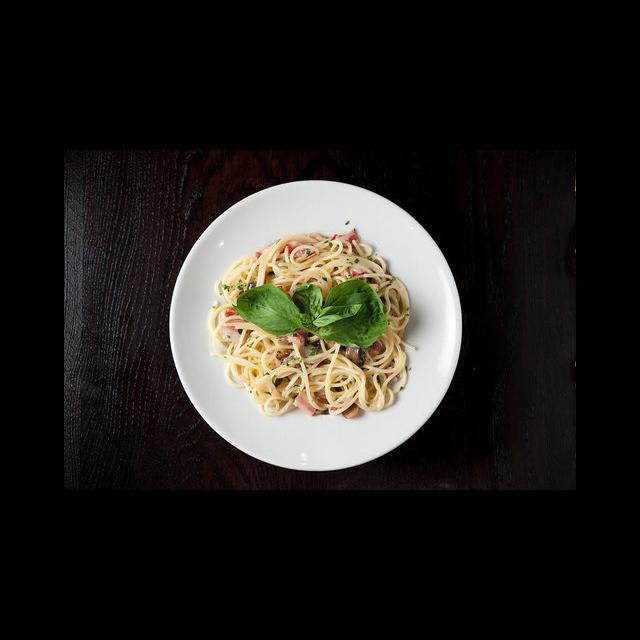noodles: (208, 230, 418, 420)
